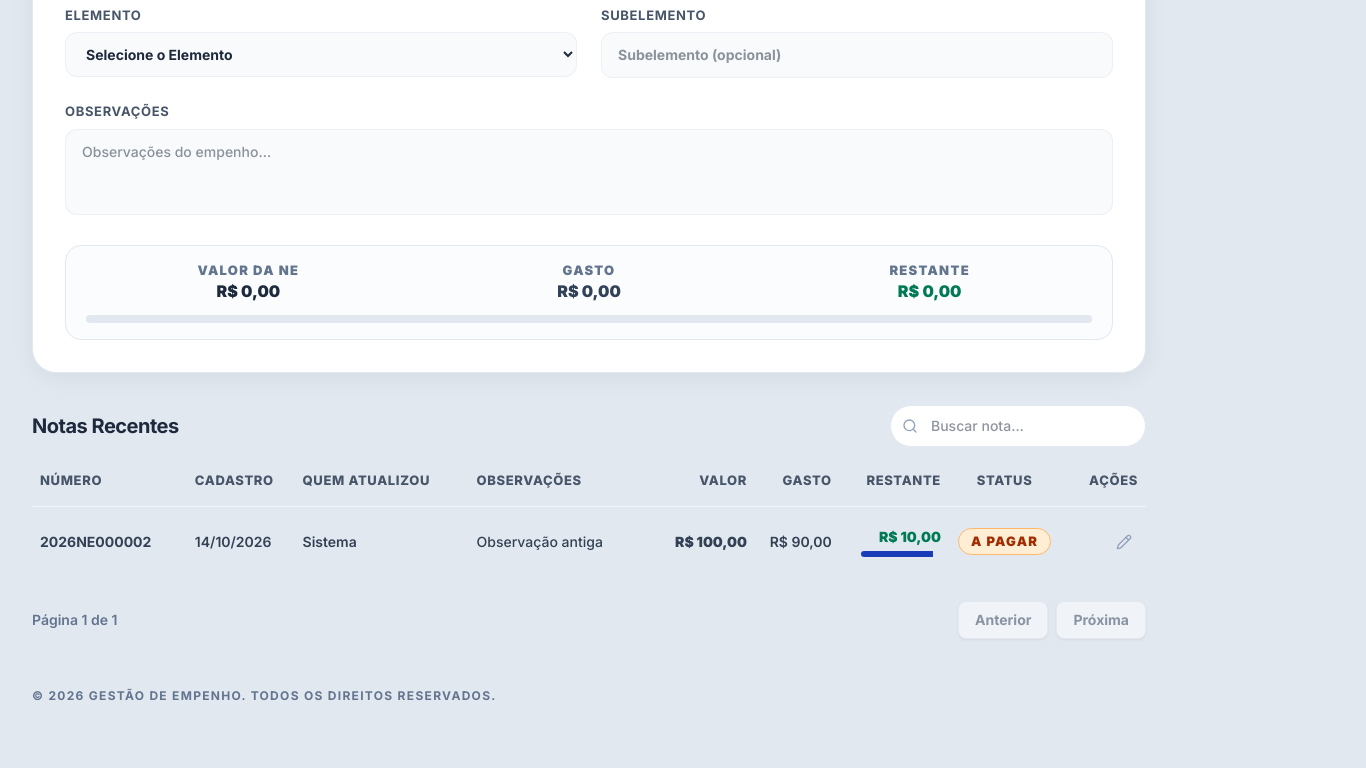
Tela da Nota de Empenho — saldo (T31) › editar uma NE com OPs: faixa com o gasto dela
The width and height of the screenshot is (1366, 768).
(page scrolled)
Click the button titled "Editar" at x=1124, y=542, box [1110, 528, 1138, 556]
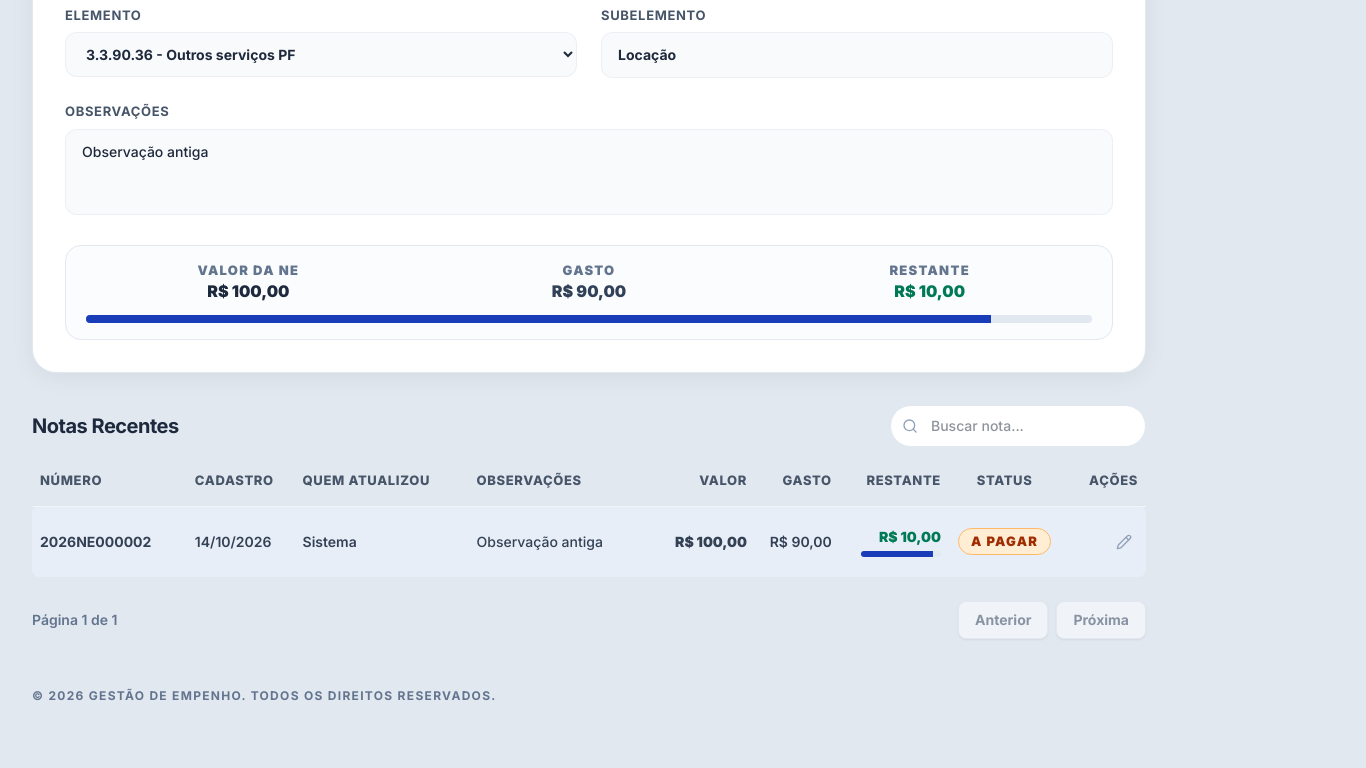
Check: the text "R$ 90,00" is shown, box [552, 281, 626, 301]
Check: the text "R$ 10,00" below "Subelemento" is shown, box [894, 281, 965, 301]
